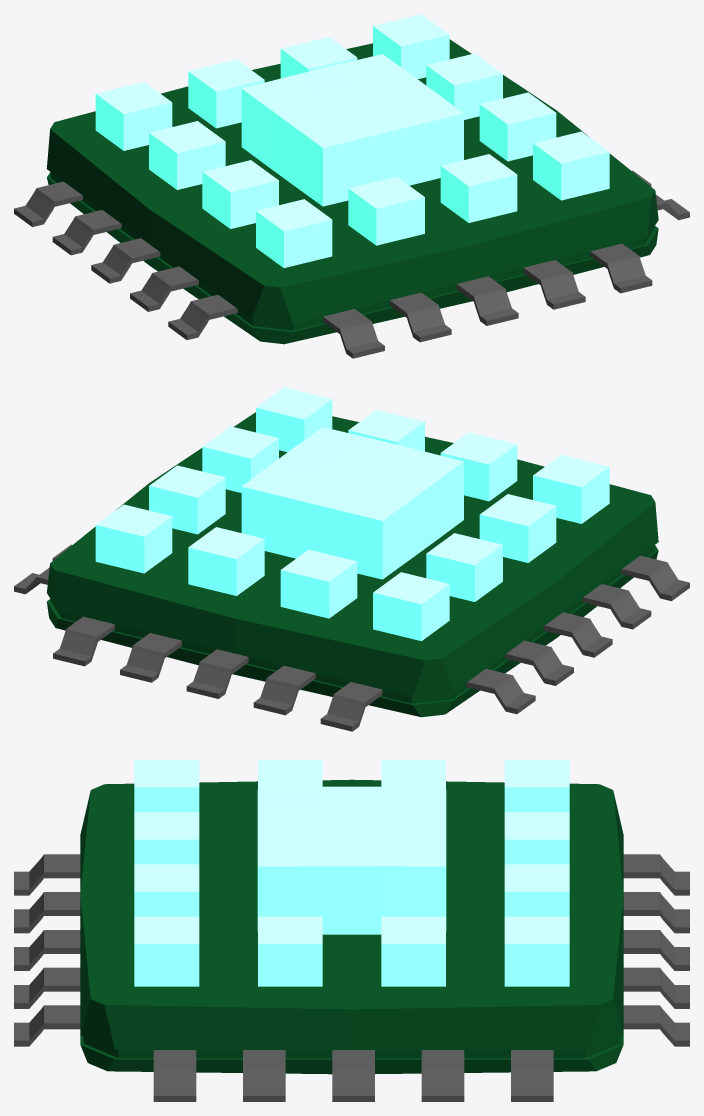
File: Chip_Upgrade.fbx
The picture shows the model from 3 angles, top to bottom: view 1: azimuth 30°, elevation 25°; view 2: azimuth 150°, elevation 25°; view 3: azimuth 270°, elevation 25°; orthographic projection. The views are drawn at different scales.
Visible parts, largest first — view 1: Pins, Base, Legs2, Legs1; view 2: Pins, Base, Legs2, Legs1; view 3: Base, Pins, Legs2, Legs1.
Boxes of the visible parts, <box> form: Pins: <box>95,14,609,267</box>; Base: <box>47,39,658,344</box>; Legs2: <box>323,243,652,358</box>; Legs1: <box>14,170,689,339</box>; Pins: <box>95,387,609,640</box>; Base: <box>47,412,658,717</box>; Legs2: <box>53,616,382,731</box>; Legs1: <box>14,544,689,714</box>; Base: <box>80,779,623,1074</box>; Pins: <box>134,760,569,986</box>; Legs2: <box>14,854,689,1046</box>; Legs1: <box>153,1050,553,1101</box>.
Bounding box in the file's own units: 247 × 54.5 × 249.
